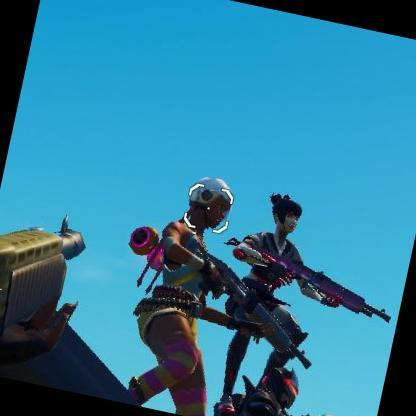person: (127, 162, 252, 402), (220, 186, 318, 384), (240, 365, 317, 416)
